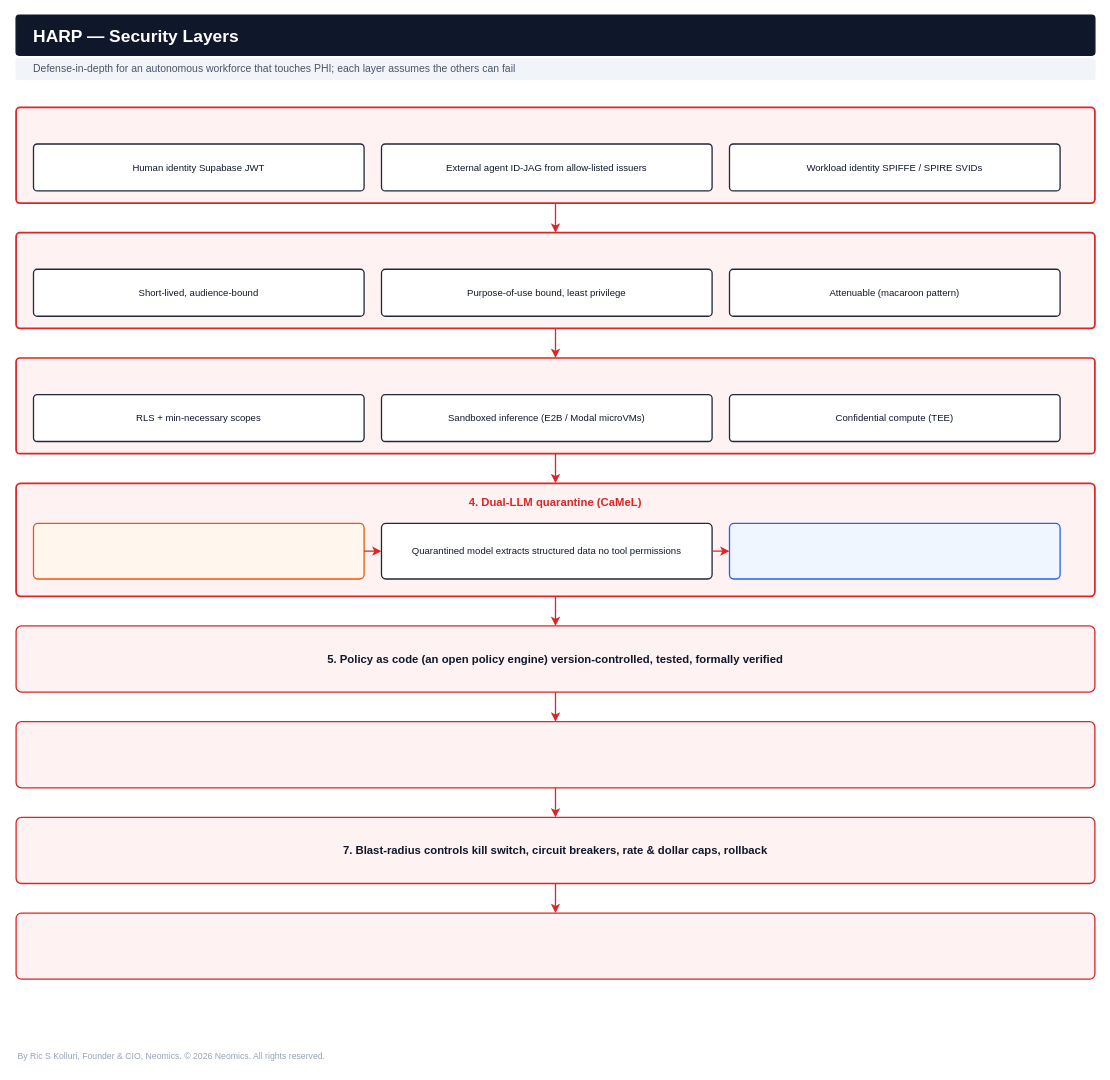
Image size: 1110x1080. Some labels were removed from this diagram. The box of each missing label's shape, as (x1, y1, x2, y2) in pixels:
1. Identity planes (never conflated): (15, 106, 1095, 204)
2. Token design: (15, 231, 1095, 329)
3. PHI isolation: (15, 357, 1095, 454)
6. Supply-chain security pin & sign MCP, allow-list, scan for poisoning: (15, 721, 1095, 788)
8. Verifiable audit append-only signed AgentAction, deterministic replay: (15, 912, 1095, 979)
Privileged planner sees validated fields only: (728, 522, 1060, 579)
Untrusted content claims · EOBs · portals: (32, 522, 364, 579)
